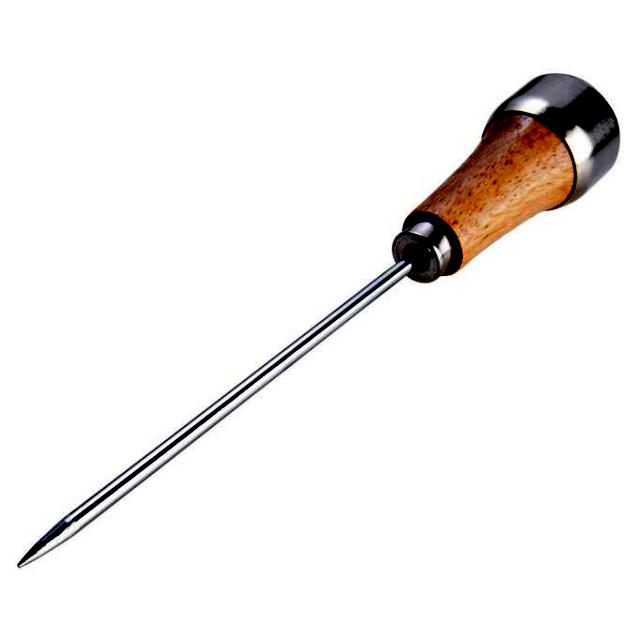ice pick: (16, 70, 624, 570)
